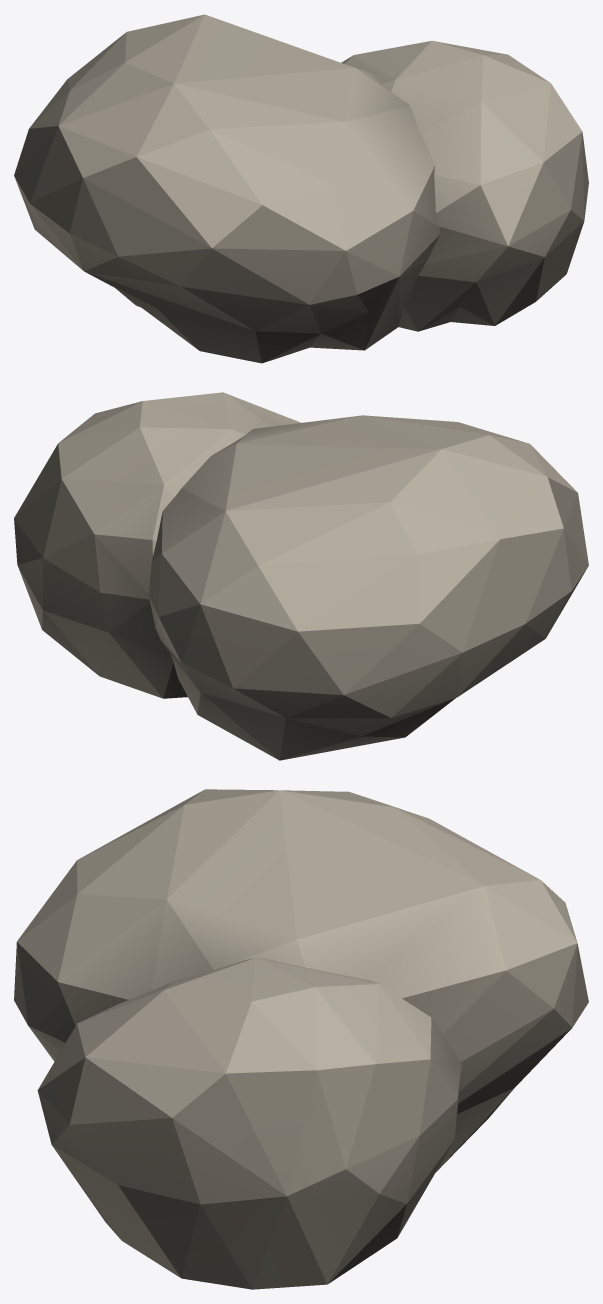
The model's file is rock_large_b.glb.
3 renders of one model, top to bottom at view 1: azimuth 30°, elevation 25°; view 2: azimuth 150°, elevation 25°; view 3: azimuth 270°, elevation 25°, orthographic. The views are drawn at different scales.
Parts seen in each view (by area): view 1: Body; view 2: Body; view 3: Body.
Boxes of the visible parts, left/top/right/bottom form: Body: left=14, top=14, right=588, bottom=363; Body: left=14, top=392, right=588, bottom=760; Body: left=14, top=789, right=588, bottom=1289.
Bounding box in the file's own units: 1.88 × 0.8771 × 1.57.
Materials: 1 (1 with a texture image).
